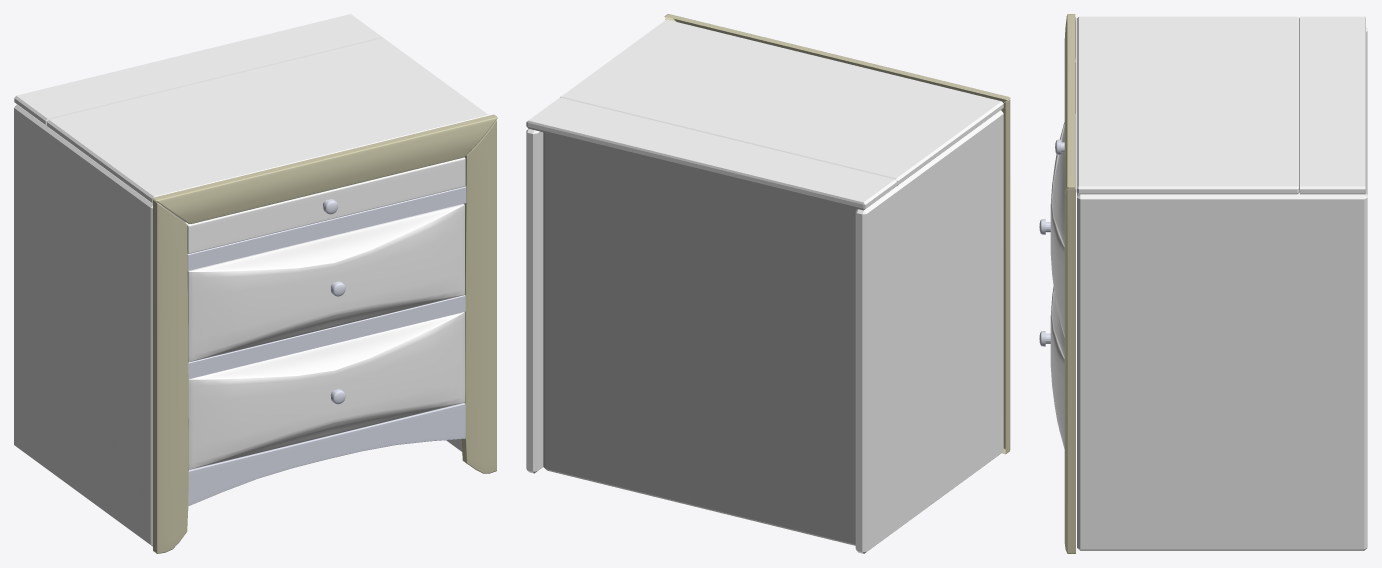
Rendered from night_stand_table.glb.
The picture shows the model from 3 angles, left to right: view 1: azimuth 30°, elevation 25°; view 2: azimuth 150°, elevation 25°; view 3: azimuth 270°, elevation 25°; orthographic projection. The views are drawn at different scales.
Visible parts, largest first — view 1: group3 pCube6, group3 pCube4, group3 pPlane12, group3 pPlane20, group3 pPlane14, group3 pPlane15, group3 pCube5, pPlane3 group3, group3 pPlane16, group3 pPlane19, group3 pPlane17, group3 pPlane18; view 2: group3 pCube7, group3 pCube6, group3 pCube4, group3 pCube5, group3 pCube3, group3 pPlane14, group3 pPlane15; view 3: group3 pCube3, group3 pCube4, group3 pCube5, pPlane3 group3, group3 pPlane12, group3 pPlane15, group3 pPlane20.
Part boxes in pixels (x1,y1,x2,y2): group3 pCube6: [14, 104, 161, 546]; group3 pCube4: [47, 38, 488, 203]; group3 pPlane12: [187, 204, 464, 361]; group3 pPlane20: [188, 312, 464, 469]; group3 pPlane14: [153, 199, 188, 553]; group3 pPlane15: [152, 114, 497, 223]; group3 pCube5: [14, 14, 382, 125]; pPlane3 group3: [461, 120, 496, 473]; group3 pPlane16: [185, 157, 465, 253]; group3 pPlane19: [188, 403, 465, 505]; group3 pPlane17: [187, 186, 466, 270]; group3 pPlane18: [188, 295, 465, 378]; group3 pCube7: [543, 132, 857, 545]; group3 pCube6: [855, 110, 1003, 553]; group3 pCube4: [560, 19, 1003, 185]; group3 pCube5: [526, 97, 896, 210]; group3 pCube3: [526, 129, 543, 473]; group3 pPlane14: [1001, 99, 1010, 454]; group3 pPlane15: [664, 14, 1010, 102]; group3 pCube3: [1077, 192, 1367, 550]; group3 pCube4: [1076, 16, 1299, 194]; group3 pCube5: [1299, 16, 1365, 194]; pPlane3 group3: [1064, 188, 1075, 553]; group3 pPlane12: [1050, 113, 1075, 337]; group3 pPlane15: [1064, 14, 1075, 194]; group3 pPlane20: [1050, 286, 1064, 448].
Size of the model in its own units: 102 by 101 by 81.77.
